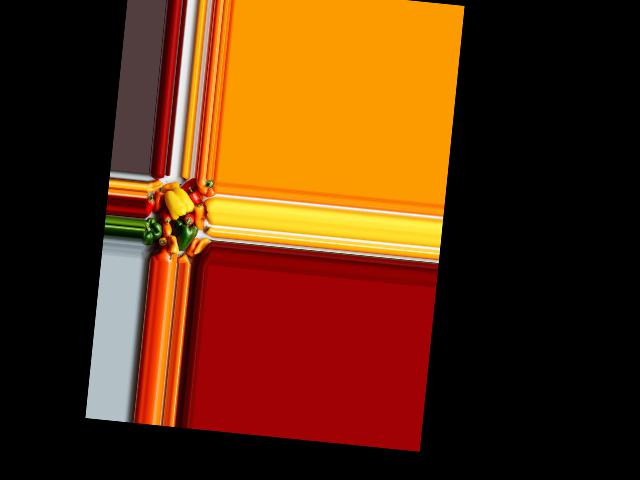bell_pepper: (143, 193, 158, 216)
